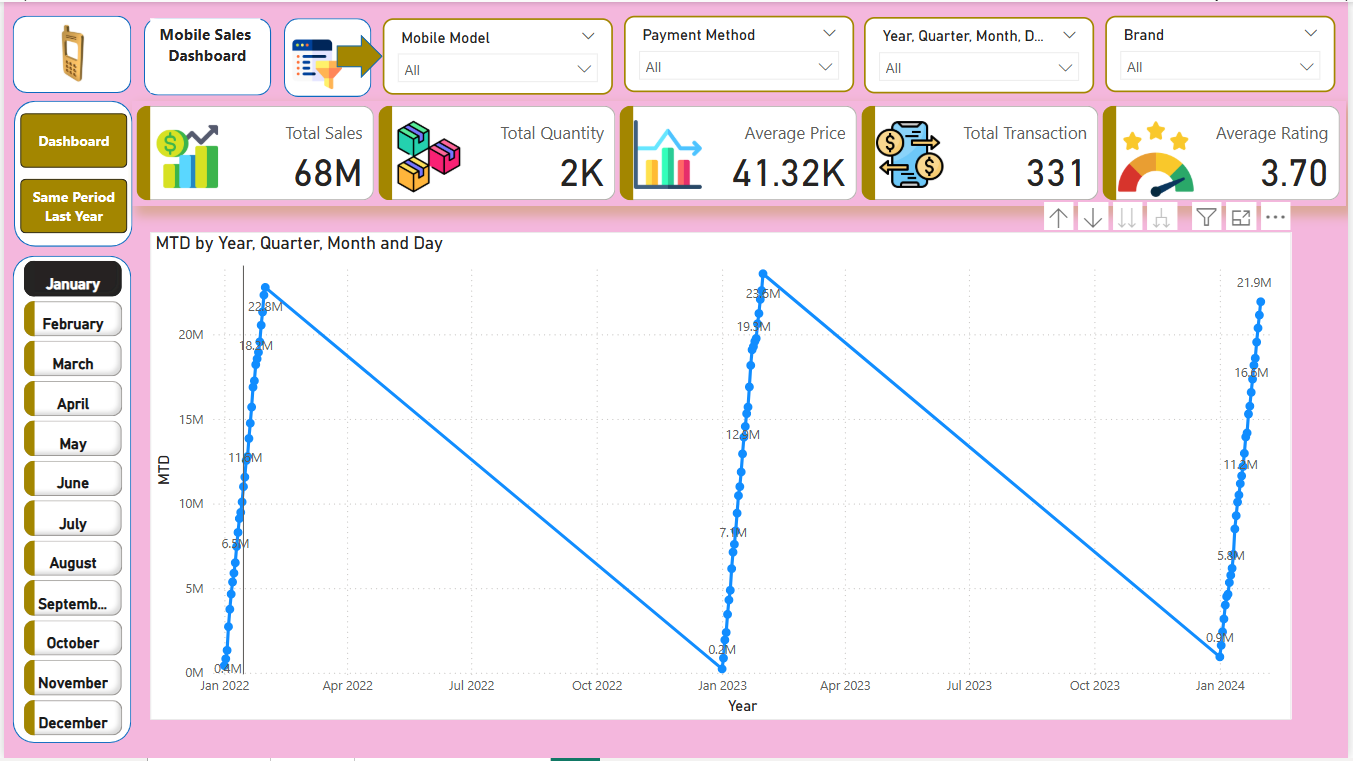

Layout of this report page (visuals, bound fields, positions):
{"tool":"powerbi","page":{"name":"MTD","canvas":[1280,720],"ordinal":1},"visuals":[{"type":"shape","box":[8.3,13.1,113.1,73.8],"z":0},{"type":"image","box":[13.1,13.1,103.6,72.6],"z":1000},{"type":"shape","box":[9.5,94,113.1,139.3],"z":2000},{"type":"cardVisual","fields":{"Data":["sales_data.total_sales","sales_data.Total_Quantity","sales_data.average_price","sales_data.total_transaction","sales_data.average_rating"]},"box":[121.4,94,1157.1,100],"z":3000},{"type":"slicer","fields":{"Values":["sales_data.Mobile Model"]},"box":[360.7,15.5,219,72.6],"z":4000},{"type":"slicer","fields":{"Values":["sales_data.Payment Method"]},"box":[590.5,13.1,219,72.6],"z":5000},{"type":"slicer","fields":{"Values":["Custom_Calender.Date.Variation.Date Hierarchy.Year","Custom_Calender.Date.Variation.Date Hierarchy.Quarter","Custom_Calender.Date.Variation.Date Hierarchy.Month","Custom_Calender.Date.Variation.Date Hierarchy.Day"]},"box":[819.1,14.3,219,72.6],"z":6000},{"type":"shape","box":[266.7,15.5,83.3,75],"z":7000},{"type":"image","box":[266.7,31,63.1,57.1],"z":8000},{"type":"shape","box":[316.7,31,44,41.7],"z":9000},{"type":"shape","box":[133.3,15.5,121.4,73.8],"z":10000},{"type":"textbox","box":[139.3,15.5,104.8,71.4],"z":11000},{"type":"areaChart","fields":{"Y":["sales_data.MTD"],"Category":["Custom_Calender.Date.Variation.Date Hierarchy.Year","Custom_Calender.Date.Variation.Date Hierarchy.Quarter","Custom_Calender.Date.Variation.Date Hierarchy.Month","Custom_Calender.Date.Variation.Date Hierarchy.Day"]},"box":[139.3,219,1086.9,464.3],"z":12000},{"type":"shape","box":[8.3,241.7,113.1,464.3],"z":13000},{"type":"advancedSlicerVisual","fields":{"Values":["Custom_Calender.Date.Variation.Date Hierarchy.Month"]},"box":[14.3,241.7,103.6,464.3],"z":14000},{"type":"slicer","fields":{"Values":["sales_data.Brand"]},"box":[1048.8,13.1,219,72.6],"z":15000},{"type":"pageNavigator","box":[15.5,106,102.4,115.5],"z":15001}]}

Visuals, with their boxes in screenshot pixels (x1, y1, x2, y2), scaled from the page's 1280x720 canvas onto the 1353x761 screenshot:
shape: (9, 14, 128, 92)
image: (14, 14, 123, 91)
shape: (10, 99, 130, 247)
cardVisual - sales_data.total_sales x sales_data.Total_Quantity: (128, 99, 1351, 205)
slicer - sales_data.Mobile Model: (381, 16, 613, 93)
slicer - sales_data.Payment Method: (624, 14, 856, 91)
slicer - Custom_Calender.Date.Variation.Date Hierarchy.Year x Custom_Calender.Date.Variation.Date Hierarchy.Quarter: (866, 15, 1097, 92)
shape: (282, 16, 370, 96)
image: (282, 33, 349, 93)
shape: (335, 33, 381, 77)
shape: (141, 16, 269, 94)
textbox: (147, 16, 258, 92)
areaChart - sales_data.MTD x Custom_Calender.Date.Variation.Date Hierarchy.Year: (147, 231, 1296, 722)
shape: (9, 255, 128, 746)
advancedSlicerVisual - Custom_Calender.Date.Variation.Date Hierarchy.Month: (15, 255, 125, 746)
slicer - sales_data.Brand: (1109, 14, 1340, 91)
pageNavigator: (16, 112, 125, 234)
